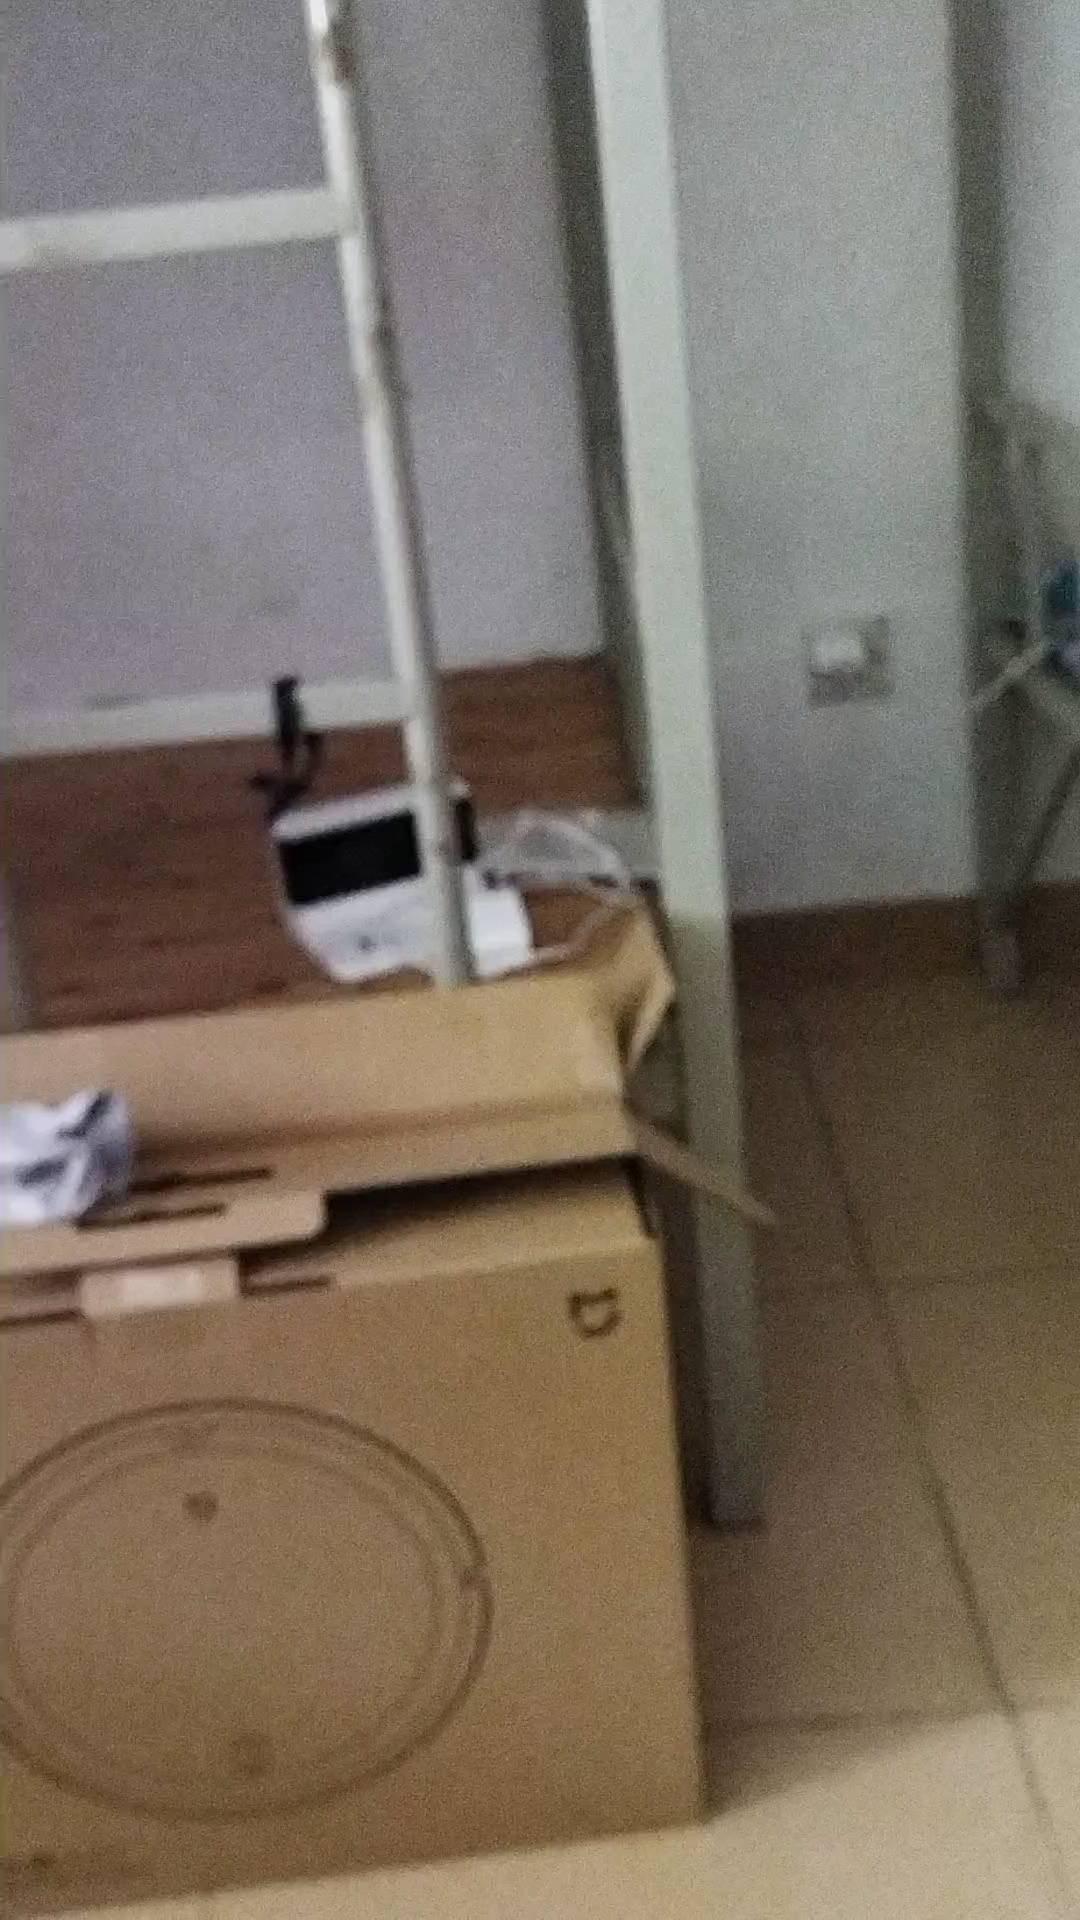recharge seat: (270, 770, 492, 982)
